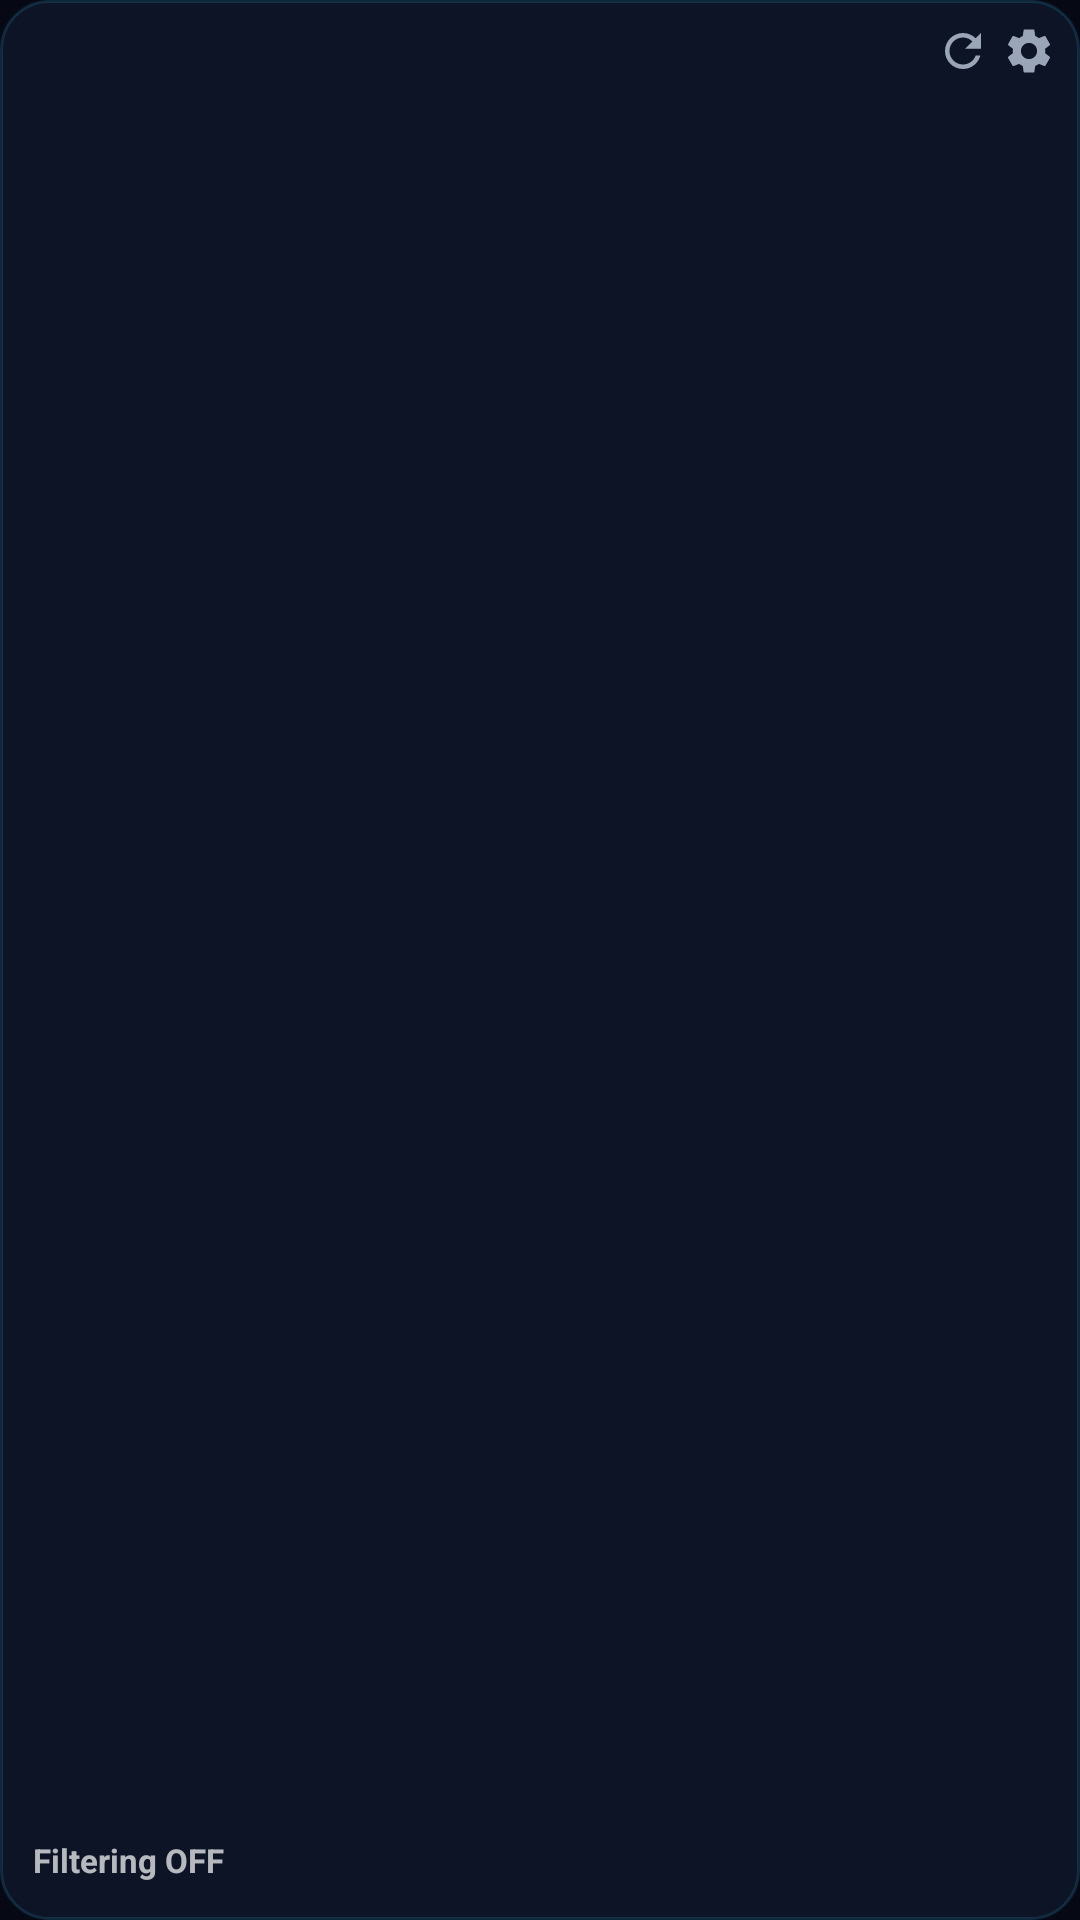

Locate icon controls on the screen. Image size 1080w x 1920h, boxes as (x1, y1, x2, y2).
Refresh: (945, 33, 981, 69)
Widget settings: (1008, 29, 1050, 73)
